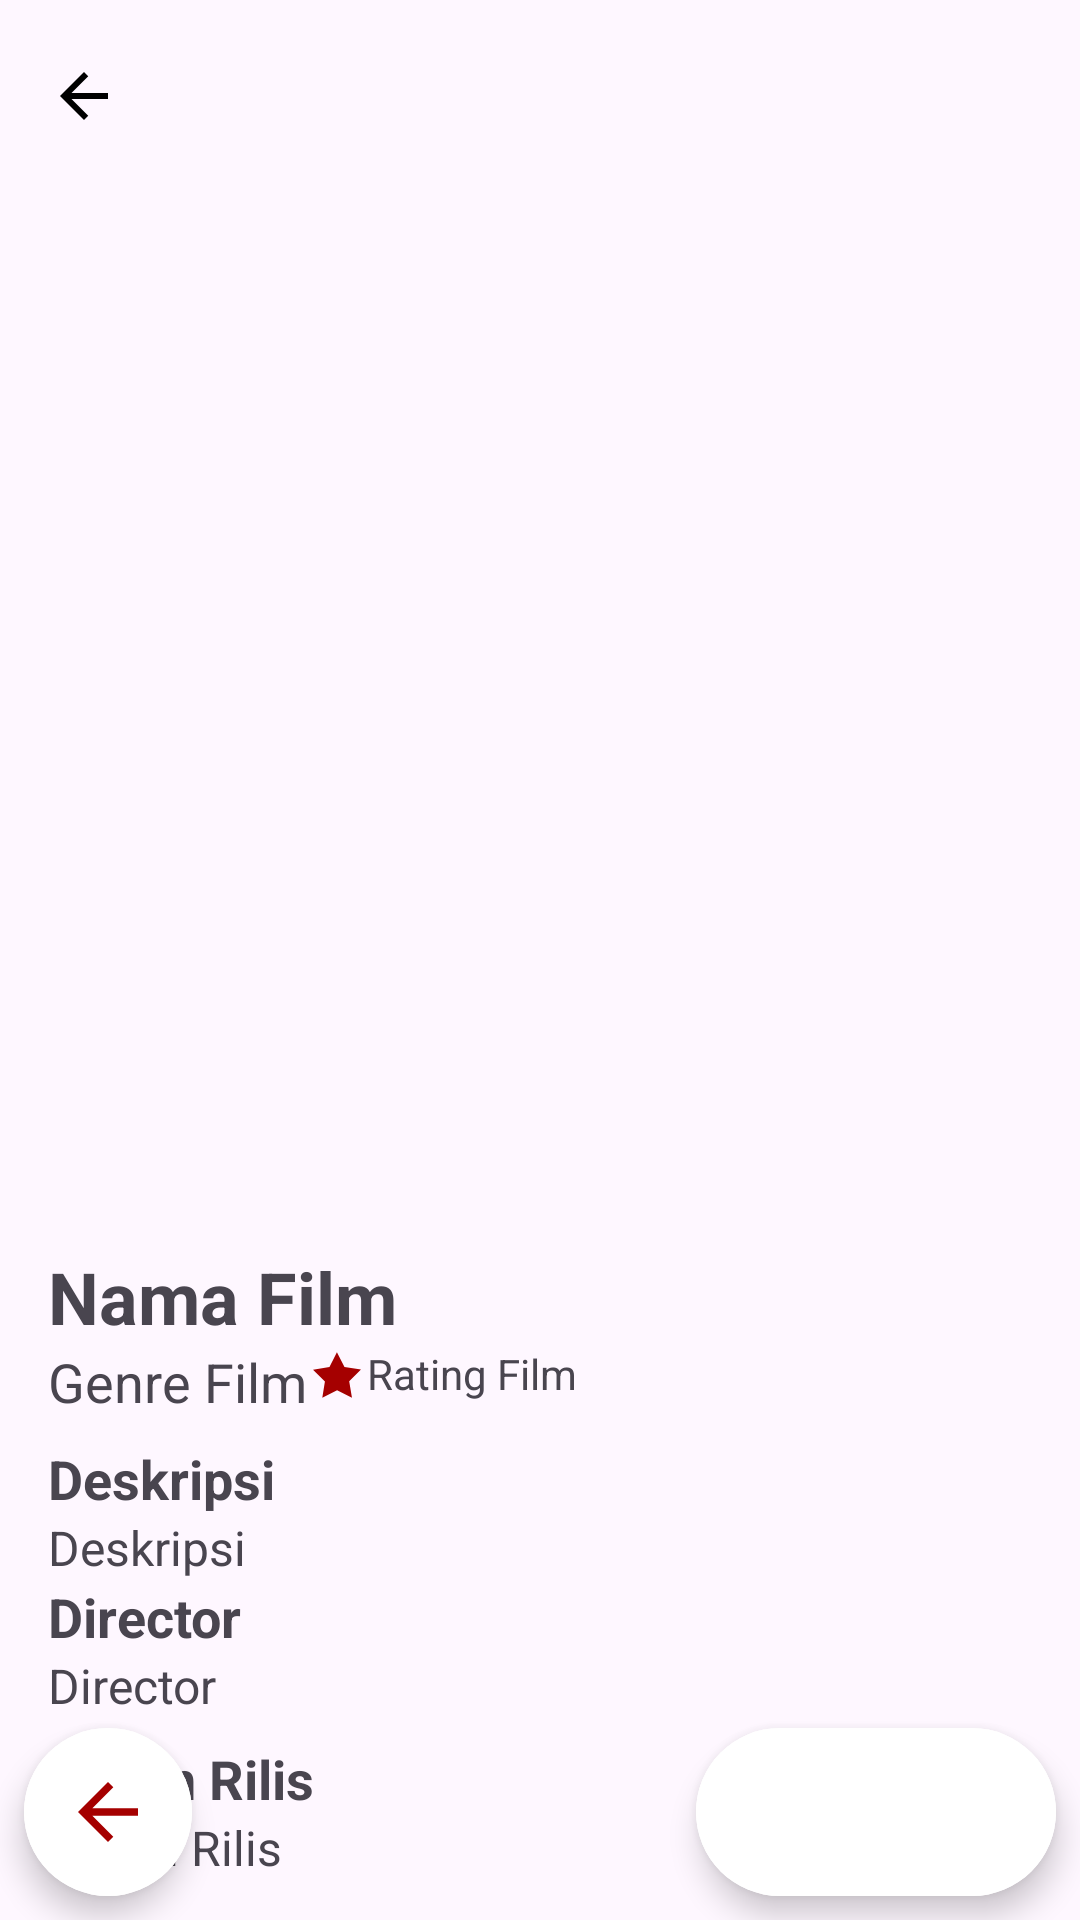

Where to tap for icons on this 1080w x 1920h app screen, as (x=x, y=y):
arrow back: (x=84, y=96), (x=108, y=1812)
star: (x=337, y=1375)
